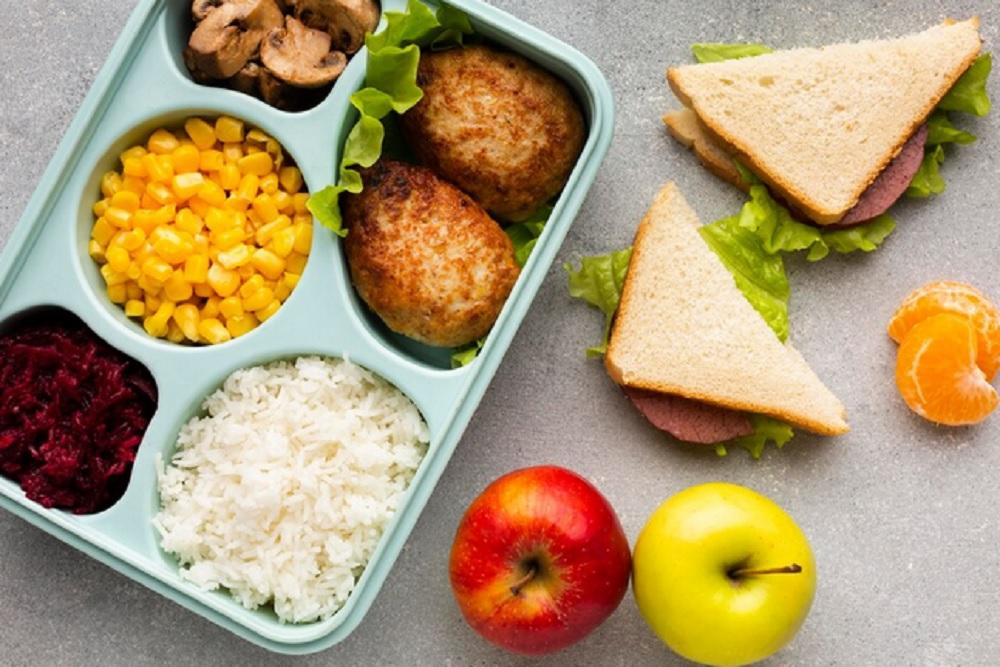buah_sayur_lainnya: (198, 6, 325, 70)
buah_sayur_vitA: (670, 509, 782, 635), (490, 500, 591, 621), (8, 344, 102, 473), (911, 293, 979, 412)
daging: (377, 201, 486, 305), (448, 70, 543, 167)
makanan_berpati: (232, 385, 345, 570), (142, 150, 252, 321), (743, 65, 889, 150), (637, 264, 721, 371)
